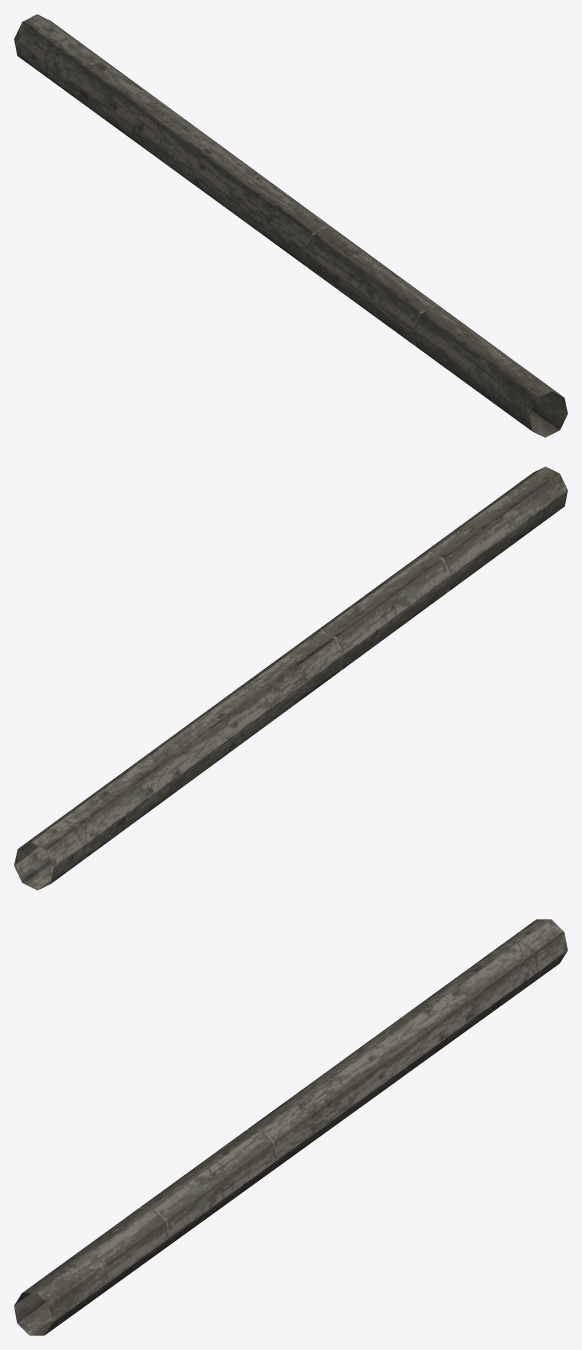
The model's file is SM_EC_WoodenPole_Large_00.fbx.
The picture shows the model from 3 angles, top to bottom: view 1: azimuth 30°, elevation 25°; view 2: azimuth 150°, elevation 25°; view 3: azimuth 330°, elevation 25°; orthographic projection.
Visible parts, largest first — view 1: SM_EC_WoodenPole_Large_00; view 2: SM_EC_WoodenPole_Large_00; view 3: SM_EC_WoodenPole_Large_00.
Part boxes in pixels (x1,y1,x2,y2): SM_EC_WoodenPole_Large_00: (14,14,567,437); SM_EC_WoodenPole_Large_00: (14,466,567,890); SM_EC_WoodenPole_Large_00: (14,919,567,1335).
Size of the model in its own units: 0.3601 by 7.79 by 0.3969.
